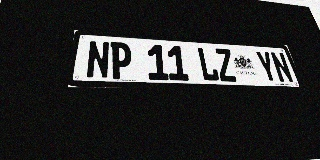1: (166, 45, 189, 81), (147, 44, 169, 80)
L: (196, 47, 220, 81)
N: (86, 40, 110, 79), (269, 52, 295, 83)
P: (110, 42, 132, 79)
Y: (255, 51, 279, 83)
Z: (214, 48, 238, 82)
